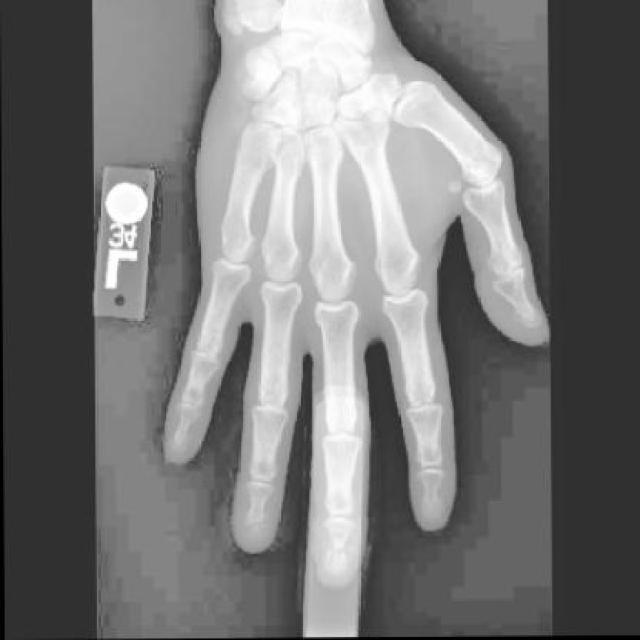Fracture: (323, 545, 346, 567), (237, 520, 264, 537)
